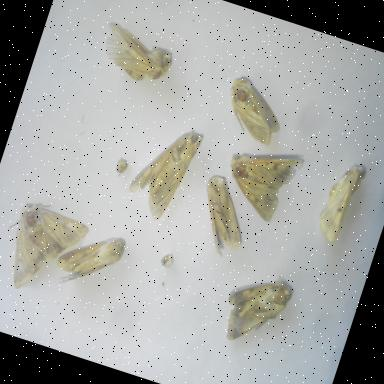abw: (0, 191, 95, 308), (118, 112, 209, 230), (210, 131, 310, 231), (212, 260, 300, 358), (182, 168, 262, 266), (46, 216, 132, 306), (88, 15, 181, 94), (213, 68, 296, 152), (308, 153, 372, 250)
